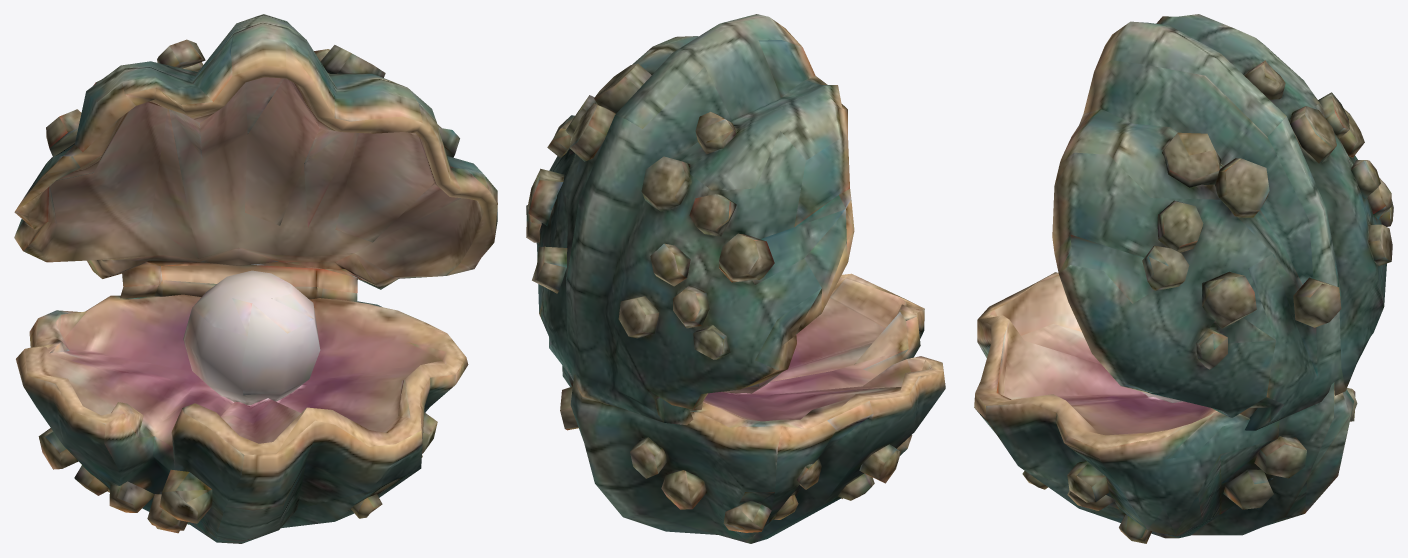
Rendered from prop_deep_clam.glb.
The picture shows the model from 3 angles, left to right: view 1: azimuth 30°, elevation 25°; view 2: azimuth 150°, elevation 25°; view 3: azimuth 270°, elevation 25°; orthographic projection. The views are drawn at different scales.
Bounding box in the file's own units: 0.2149 × 0.2466 × 0.1914.
Materials: 1 (1 with a texture image).
